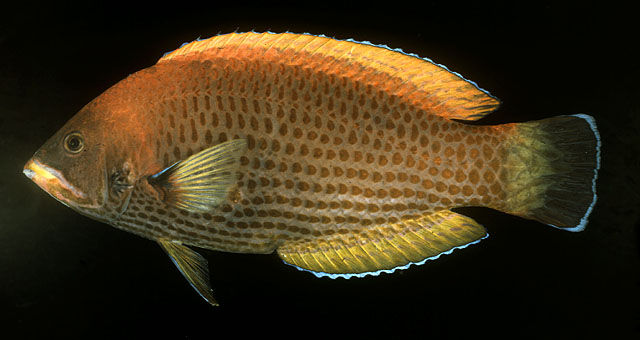fish: (22, 29, 602, 308)
